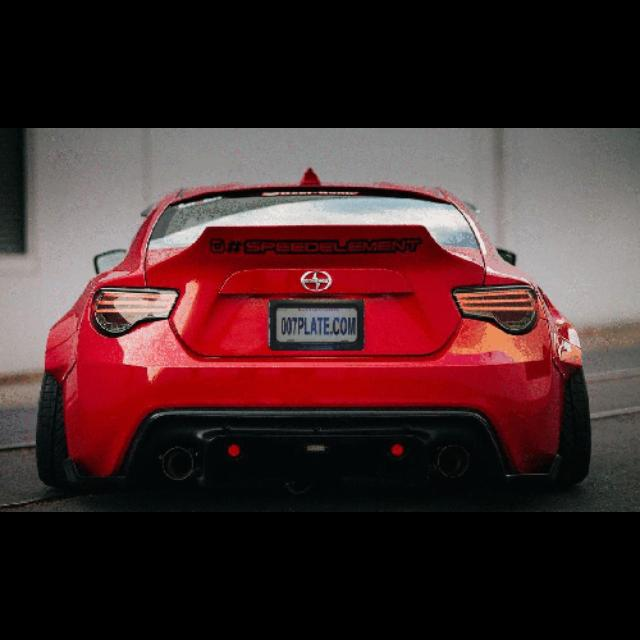carPlate: (277, 308, 357, 342)
